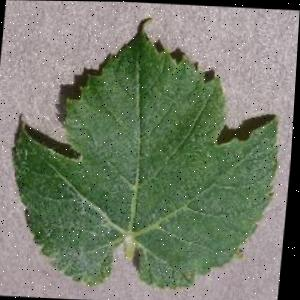Folha: (2, 9, 293, 293)
